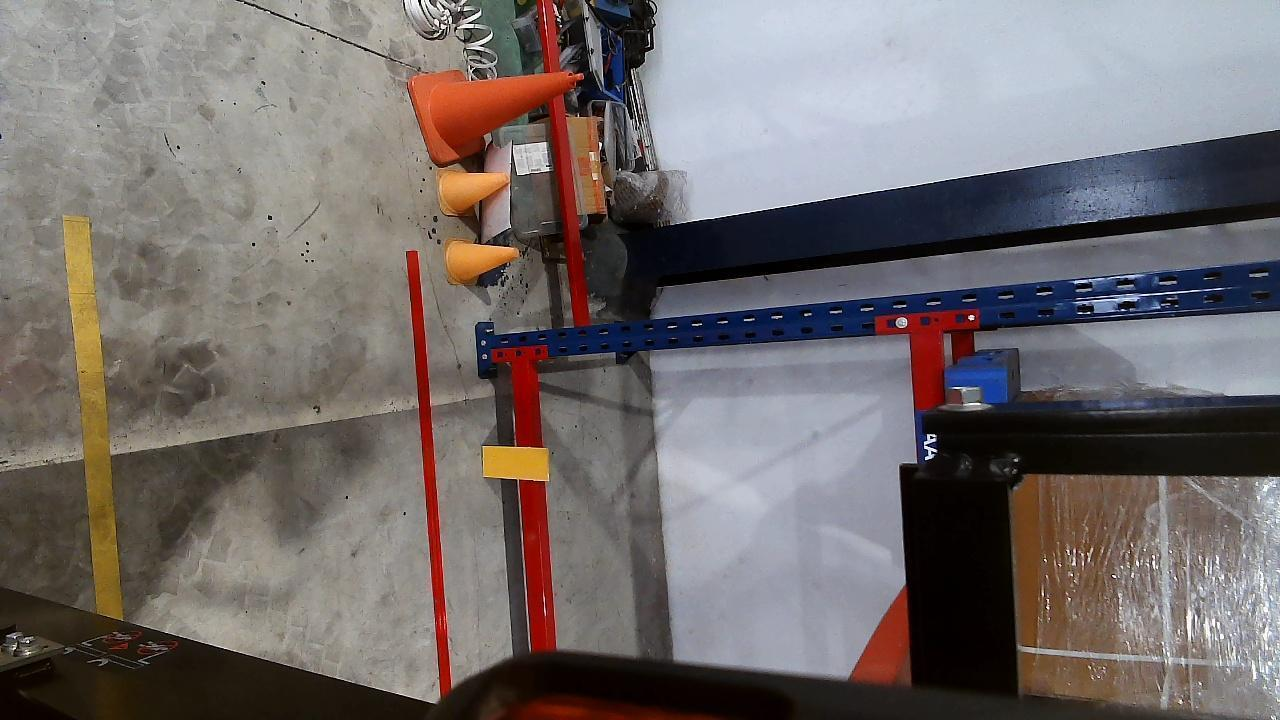red_line: (407, 251, 452, 679)
yellow_line: (59, 214, 120, 618)
